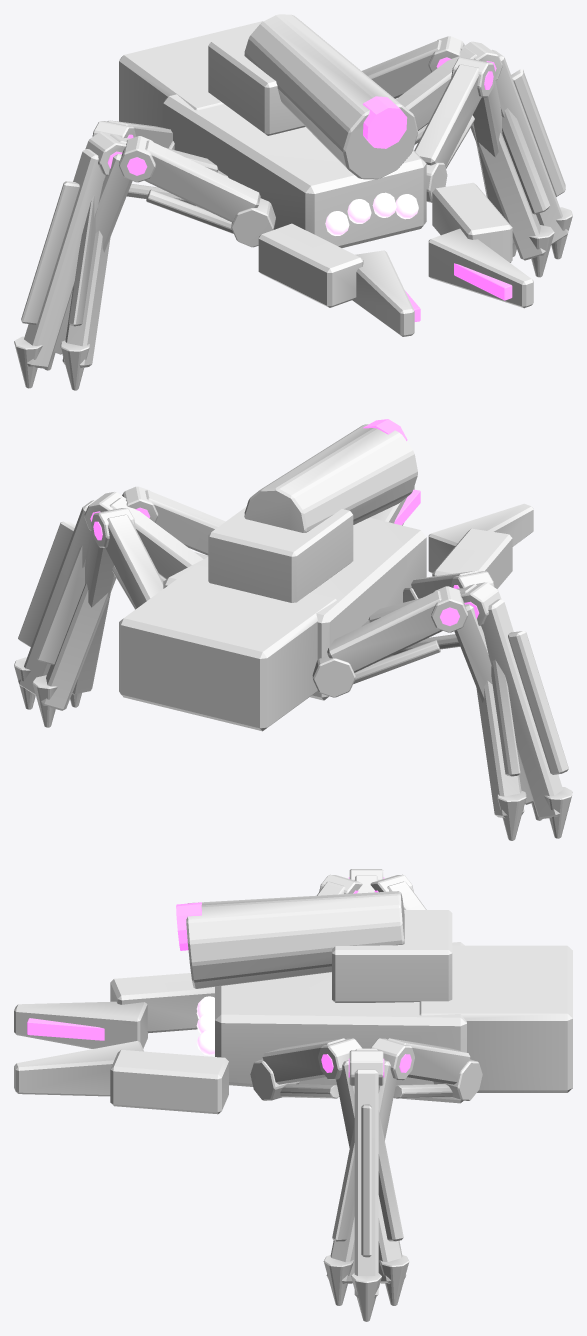
The model's file is e3_hull_crawler.glb.
3 renders of one model, top to bottom at view 1: azimuth 30°, elevation 25°; view 2: azimuth 150°, elevation 25°; view 3: azimuth 270°, elevation 25°, orthographic.
Visible parts, largest first — view 1: Thorax, MortarBarrel, Abdomen, ClawArm_L, MortarMount, Leg_L2_Tibia, Leg_L1_Femur, ClawBlade_R, ClawArm_R, Leg_R1_Femur, ClawBlade_L, Leg_R3_Tibia (+30 smaller); view 2: Abdomen, MortarBarrel, MortarMount, Thorax, Leg_L2_Tibia, Leg_L3_Femur, Leg_R1_Tibia, Leg_R3_Femur, Leg_L2_ArmorPlate, ClawArm_L, ClawBlade_L, Leg_R2_Tibia (+19 smaller); view 3: Abdomen, MortarBarrel, Thorax, MortarMount, ClawArm_R, ClawBlade_L, ClawBlade_R, ClawArm_L, Leg_R2_Tibia, Leg_R1_Femur, Leg_R3_Femur, Leg_R1_Tibia (+16 smaller).
Part boxes in pixels (x1,y1,x2,y2): Thorax: (163,94,426,247); MortarBarrel: (244,14,417,179); Abdomen: (119,21,262,127); ClawArm_L: (258,223,363,307); MortarMount: (208,31,305,135); Leg_L2_Tibia: (24,149,105,368); Leg_L1_Femur: (144,140,260,222); ClawBlade_R: (428,228,533,308); ClawArm_R: (432,182,512,262); Leg_R1_Femur: (414,64,481,166); ClawBlade_L: (352,250,414,336); Leg_R3_Tibia: (470,125,545,260); Abdomen: (119,565,336,731); MortarBarrel: (244,424,417,532); MortarMount: (208,506,353,602); Thorax: (163,517,426,700); Leg_L2_Tibia: (481,599,562,818); Leg_L3_Femur: (327,590,442,672); Leg_R1_Tibia: (41,575,116,710); Leg_R3_Femur: (105,514,163,608); Leg_L2_ArmorPlate: (508,631,568,774); ClawArm_L: (432,528,512,588); ClawBlade_L: (428,503,533,573); Leg_R2_Tibia: (18,500,95,694); Abdomen: (419,945,572,1092); MortarBarrel: (186,891,404,988); Thorax: (215,942,466,1103); MortarMount: (332,910,452,1002); ClawArm_R: (110,1049,228,1114); ClawBlade_L: (14,1001,147,1048); ClawBlade_R: (14,1041,143,1096); ClawArm_L: (110,973,214,1033); Leg_R2_Tibia: (354,1069,378,1297); Leg_R1_Femur: (262,1038,345,1084); Leg_R3_Femur: (387,1038,470,1084); Leg_R1_Tibia: (336,1060,406,1283).
Size of the model in its own units: 2.9 by 1.48 by 2.52.
